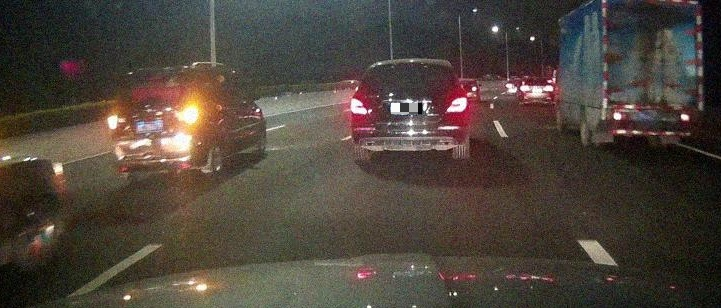L_light: (351, 97, 369, 115), (107, 113, 126, 129), (612, 112, 628, 121)
R_light: (175, 106, 200, 124), (446, 97, 467, 112), (679, 112, 694, 122)
T_light: (149, 78, 166, 82), (645, 3, 661, 7), (401, 65, 422, 67)
night-no: (602, 0, 704, 153), (351, 59, 469, 161), (108, 67, 205, 177)
plate_1: (391, 103, 422, 114)
